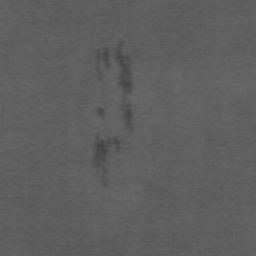Iron scale compression: (97, 107, 120, 187), (115, 39, 132, 133), (95, 48, 110, 76)
